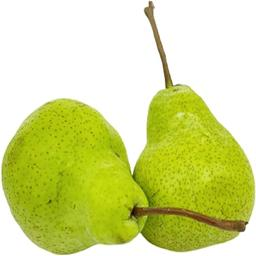Pear Fresh: (122, 0, 256, 250), (0, 85, 170, 255)
